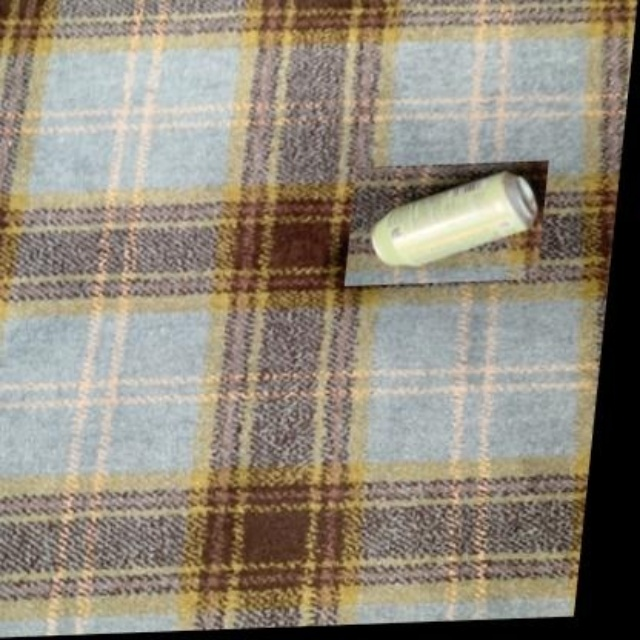trash: (371, 171, 537, 265)
